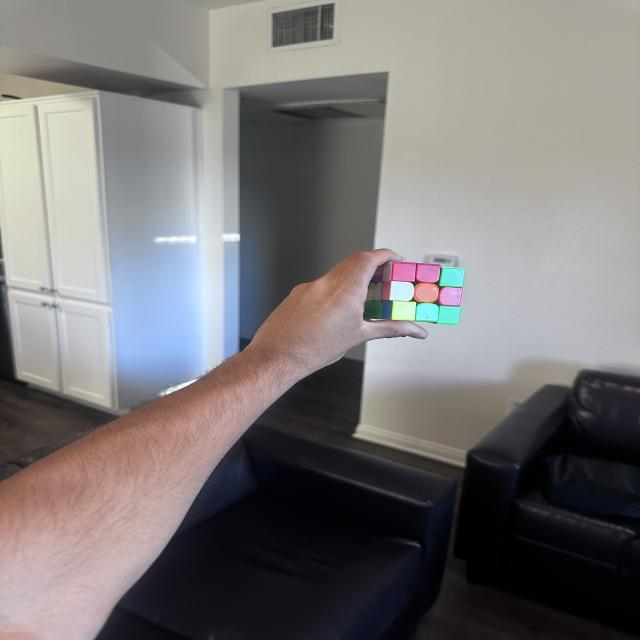sticker: (382, 280, 414, 303), (387, 262, 418, 284), (438, 266, 466, 288), (413, 282, 440, 304), (391, 300, 417, 322), (436, 304, 462, 326), (415, 263, 442, 284), (438, 286, 464, 307), (415, 302, 439, 322), (377, 262, 403, 280), (363, 300, 383, 320), (380, 300, 394, 320), (373, 264, 386, 283)
